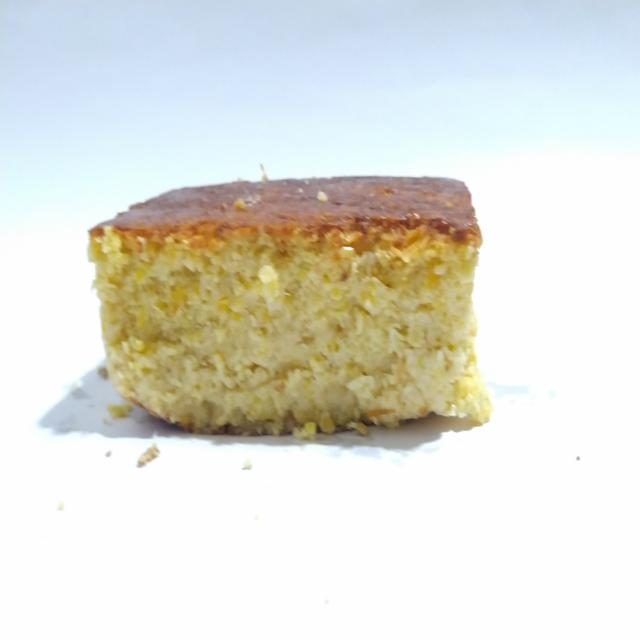Food: (70, 156, 509, 454)
